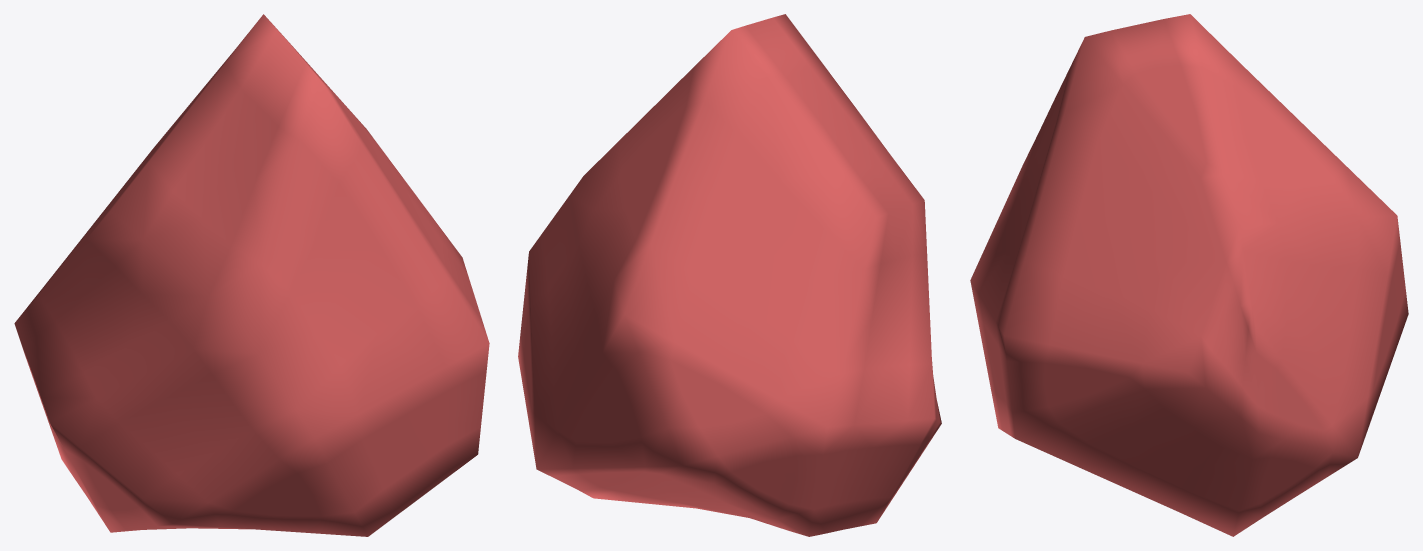
The model's file is stone2_lo.fbx.
3 renders of one model, left to right at view 1: azimuth 30°, elevation 25°; view 2: azimuth 150°, elevation 25°; view 3: azimuth 270°, elevation 25°, orthographic. The views are drawn at different scales.
Visible parts, largest first — view 1: stone2_lo; view 2: stone2_lo; view 3: stone2_lo.
Part boxes in pixels (box(x1,y1,x2,y2)): stone2_lo: box(14, 14, 489, 536); stone2_lo: box(518, 14, 941, 536); stone2_lo: box(970, 14, 1408, 536).
Bounding box in the file's own units: 1.9 × 2.23 × 1.89.
